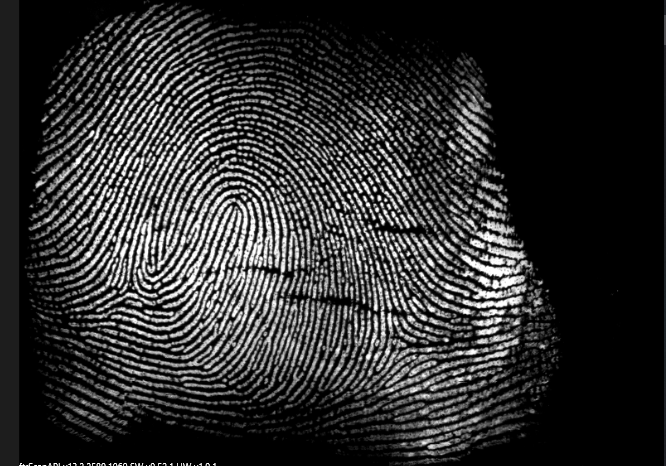nucelo: (211, 194, 248, 254)
verticilo: (378, 324, 423, 356), (111, 277, 141, 301)
